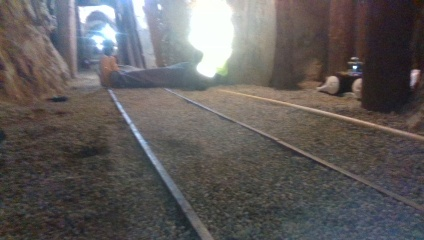manikin: (98, 1, 234, 91)
